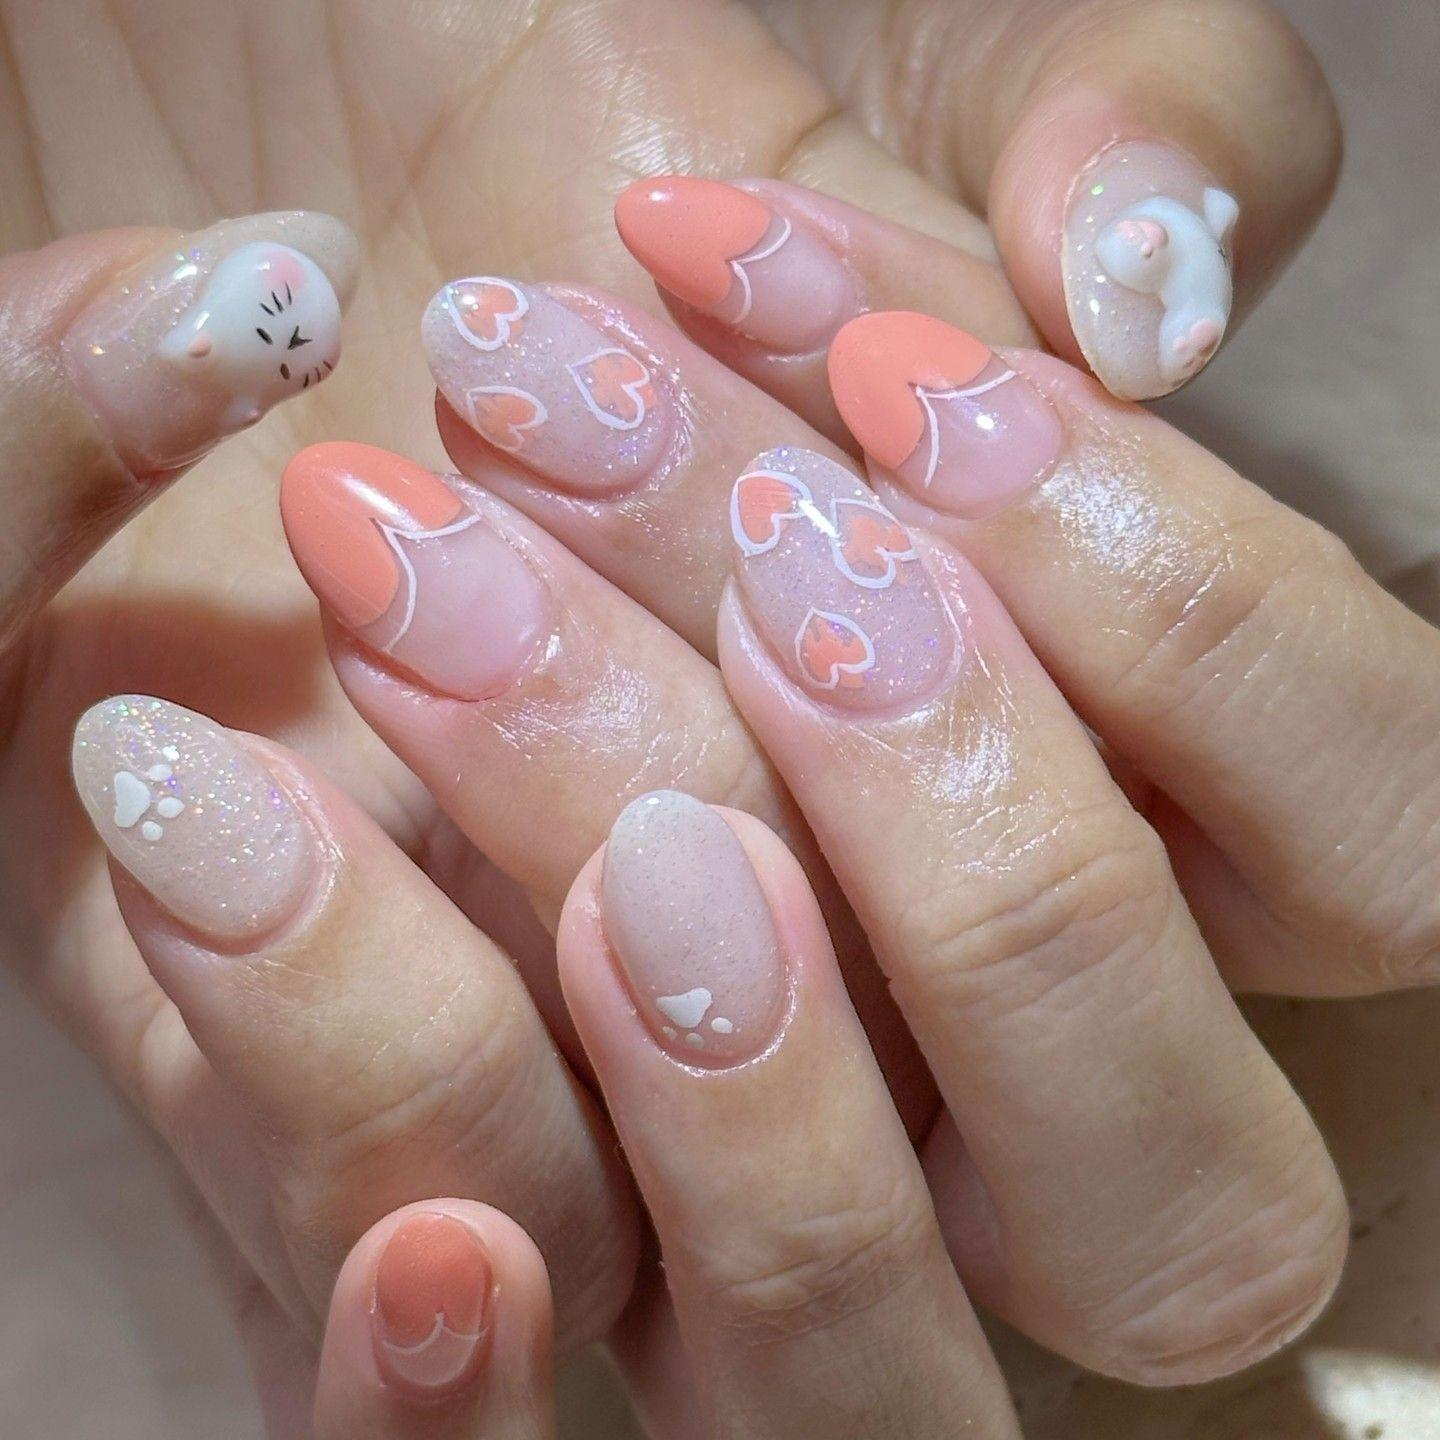nail: (56, 206, 360, 480), (278, 437, 559, 702), (68, 690, 338, 954), (595, 788, 799, 1075), (825, 306, 1065, 516), (1058, 133, 1241, 401), (366, 1209, 496, 1402)
